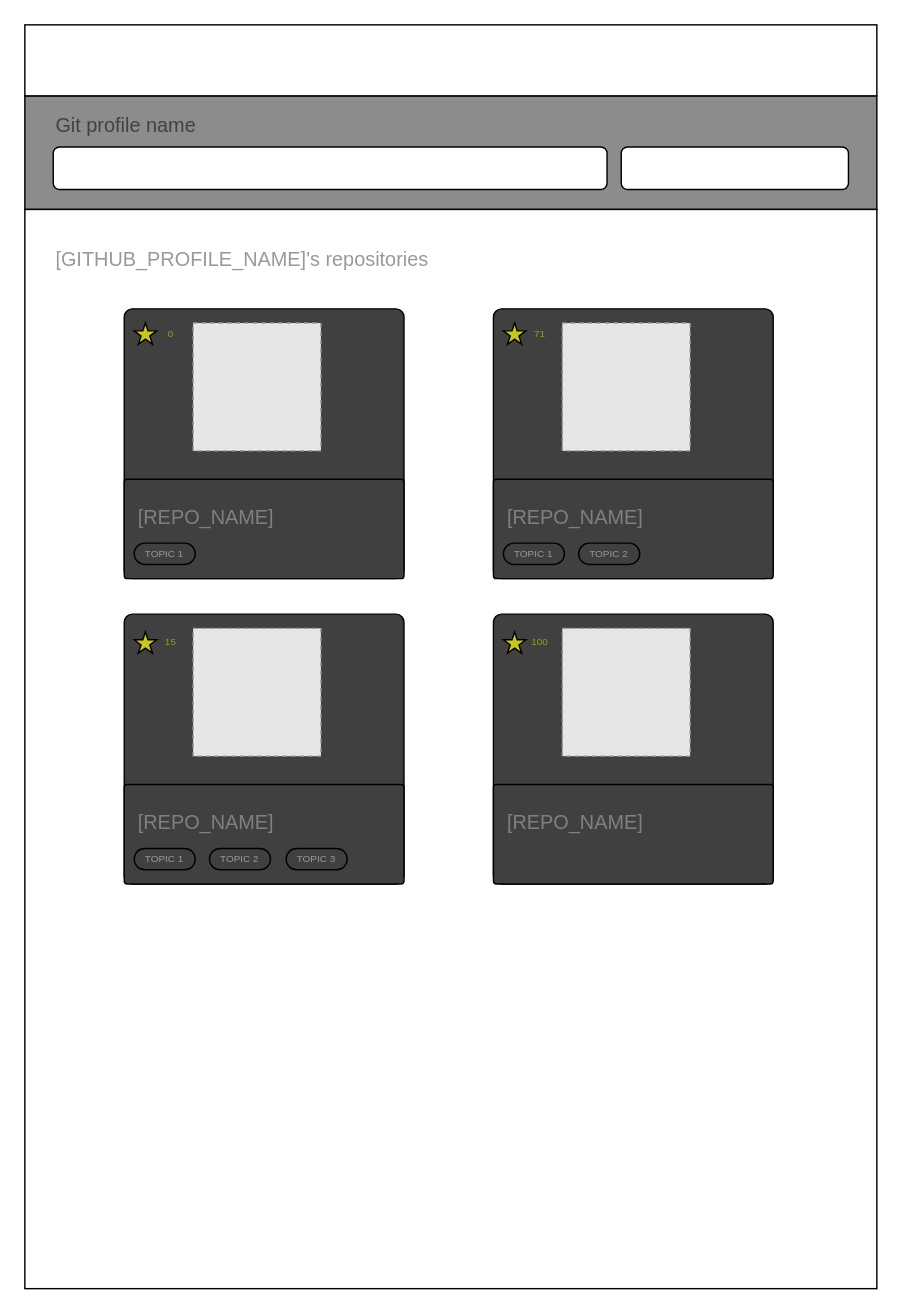
Some shapes in this 902 by 1314 pixel diagram are drawn without their labels. Grey dashed boxes stand in for pictures. The centre of each missing label's shape, as x and y in pixels:
"e.g. TheAwesomeDev" goes at [329,168].
"Github profile overview" goes at [450,59].
"Show public repositories" goes at [734,168].
